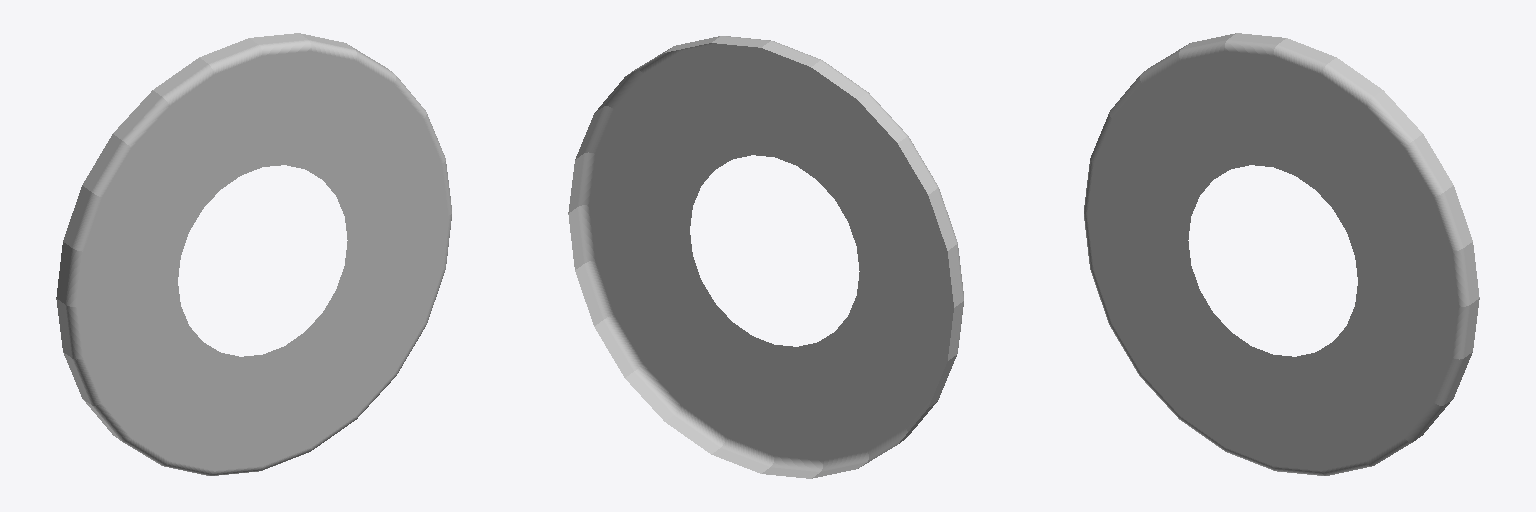
Rendered from original-21.obj.
The picture shows the model from 3 angles: view 1: azimuth 30°, elevation 25°; view 2: azimuth 150°, elevation 25°; view 3: azimuth 330°, elevation 25°; orthographic projection.
Parts seen in each view (by area): view 1: #ID107; view 2: #ID107; view 3: #ID107.
Part boxes in pixels (bbox=[...]): #ID107: bbox=[56, 33, 451, 475]; #ID107: bbox=[568, 36, 963, 478]; #ID107: bbox=[1084, 33, 1479, 475].
Size of the model in its own units: 0.0394 by 0.0416 by 0.0024.